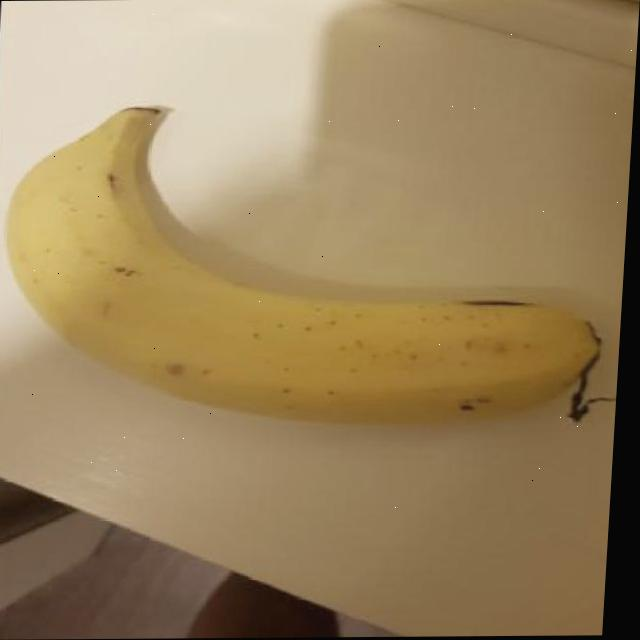banana: (0, 95, 621, 434)
